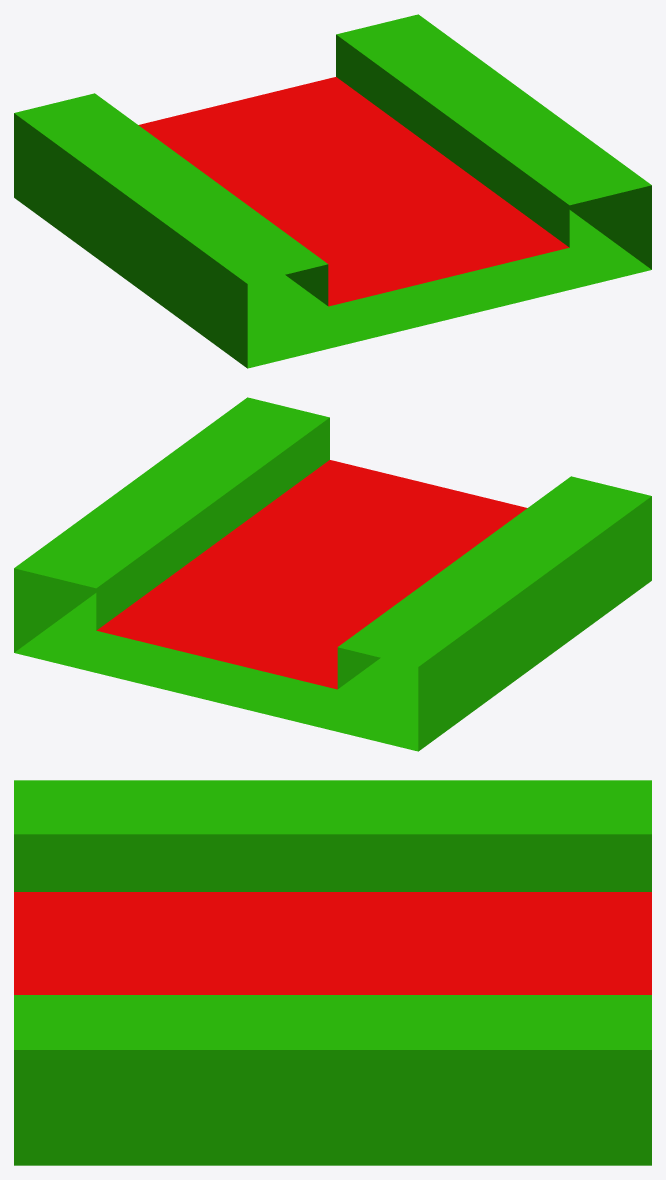
Rendered from modular_pieces_straight_fixed.FBX.
3 renders of one model, top to bottom at view 1: azimuth 30°, elevation 25°; view 2: azimuth 150°, elevation 25°; view 3: azimuth 270°, elevation 25°, orthographic. The views are drawn at different scales.
Parts seen in each view (by area): view 1: piece_new_center001; view 2: piece_new_center001; view 3: piece_new_center001.
Boxes of the visible parts, box(x1,y1,x2,y2) form: piece_new_center001: box(14, 14, 651, 368); piece_new_center001: box(14, 397, 651, 751); piece_new_center001: box(14, 780, 651, 1165).
Size of the model in its own units: 100 by 20 by 100.
